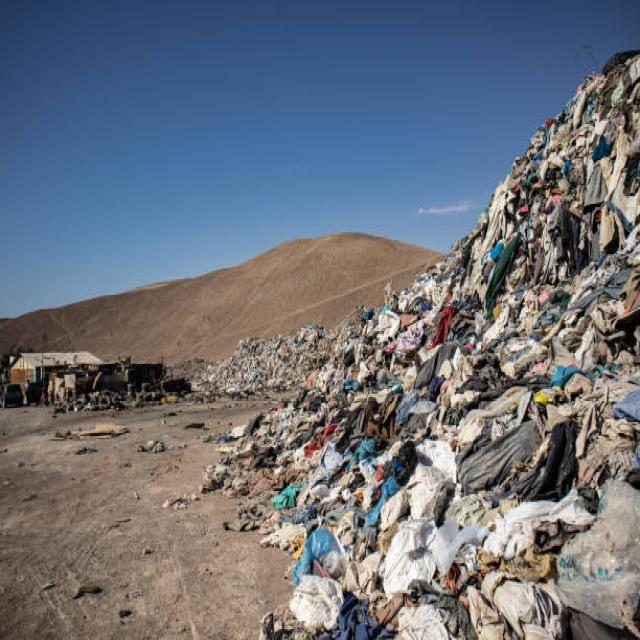trash: (166, 61, 638, 631)
